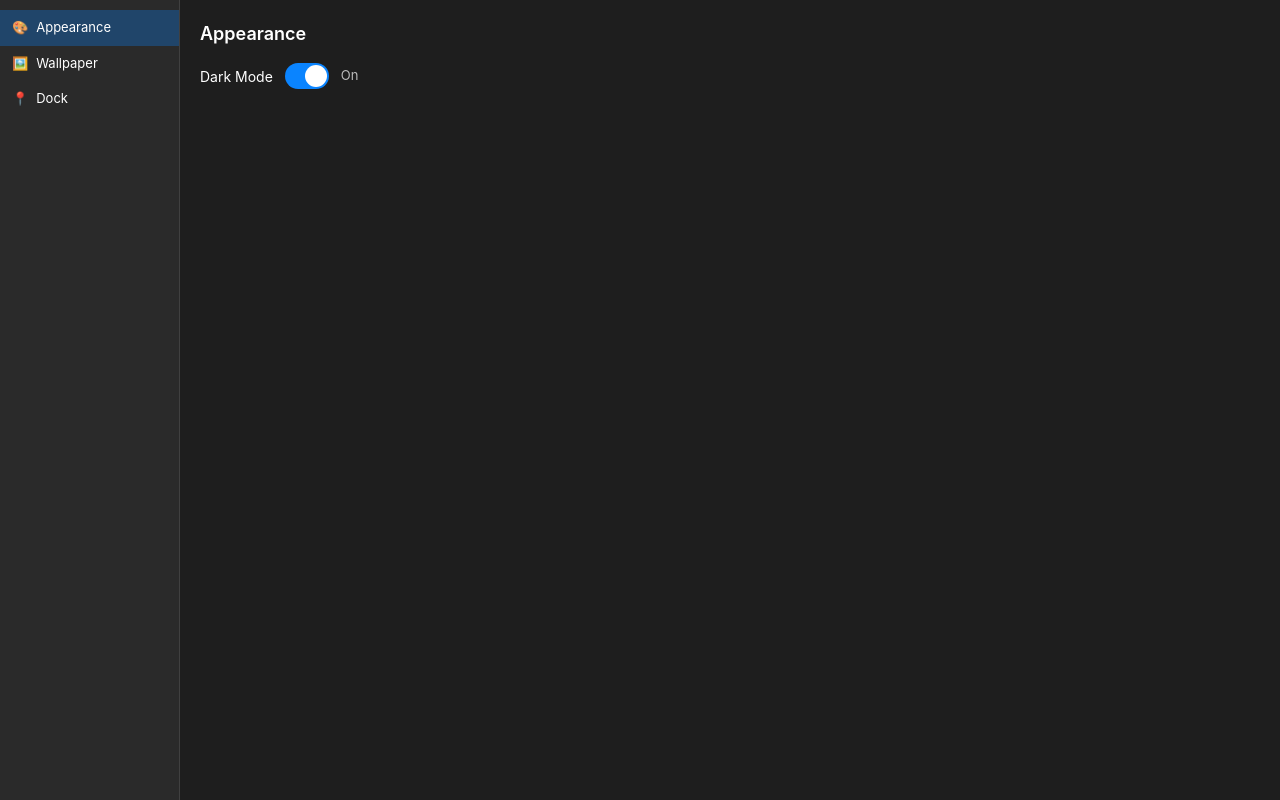
Test: SystemSettings › shows Wallpaper section with 6 gradient options
Click the element with test id "settings-section-wallpaper" at [55, 62], box [12,54,98,70]
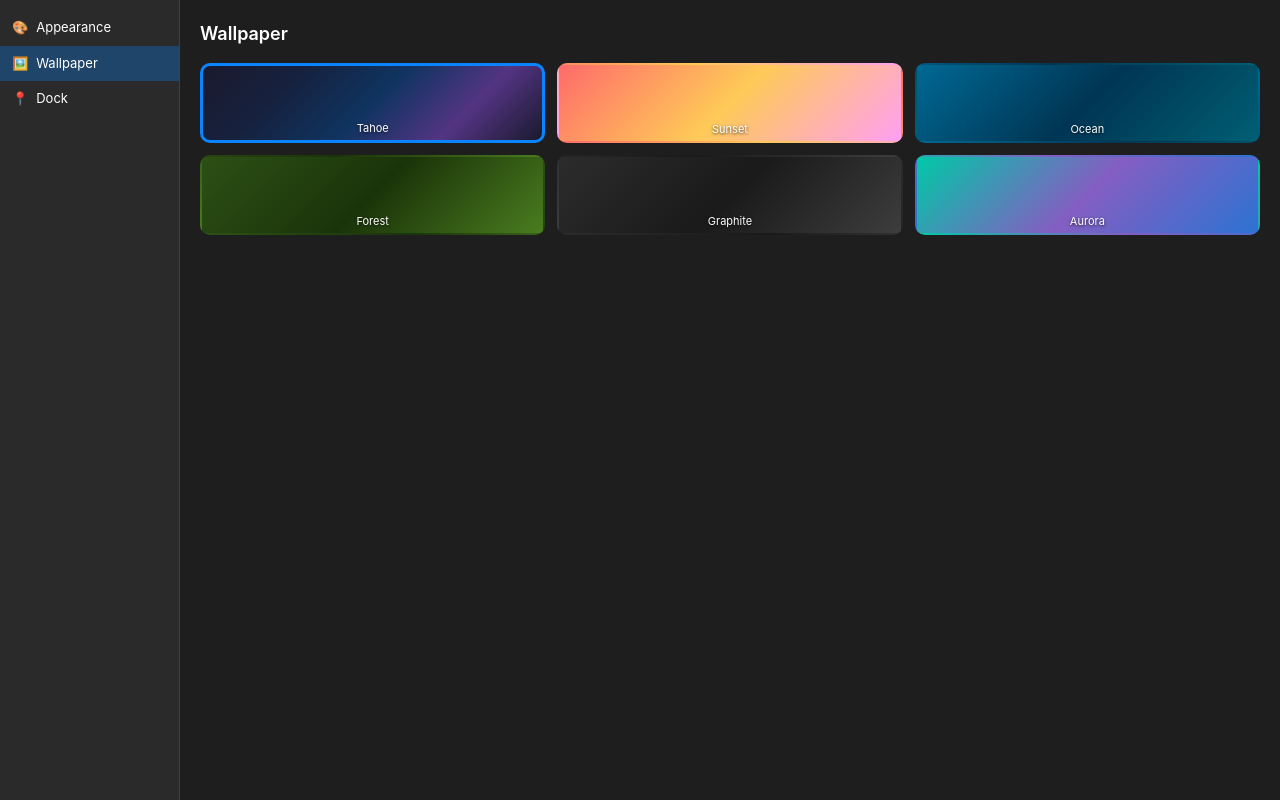
Expected: the element with test id "settings-wallpaper" is shown, [200,20,1260,235]
Expected: the element with test id "wallpaper-tahoe" is shown, [200,63,545,143]
Expected: the element with test id "wallpaper-sunset" is shown, [557,63,903,143]
